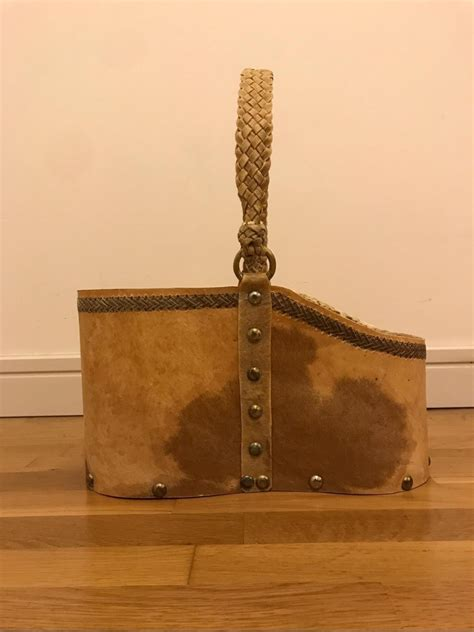cuero: (74, 67, 430, 501)
